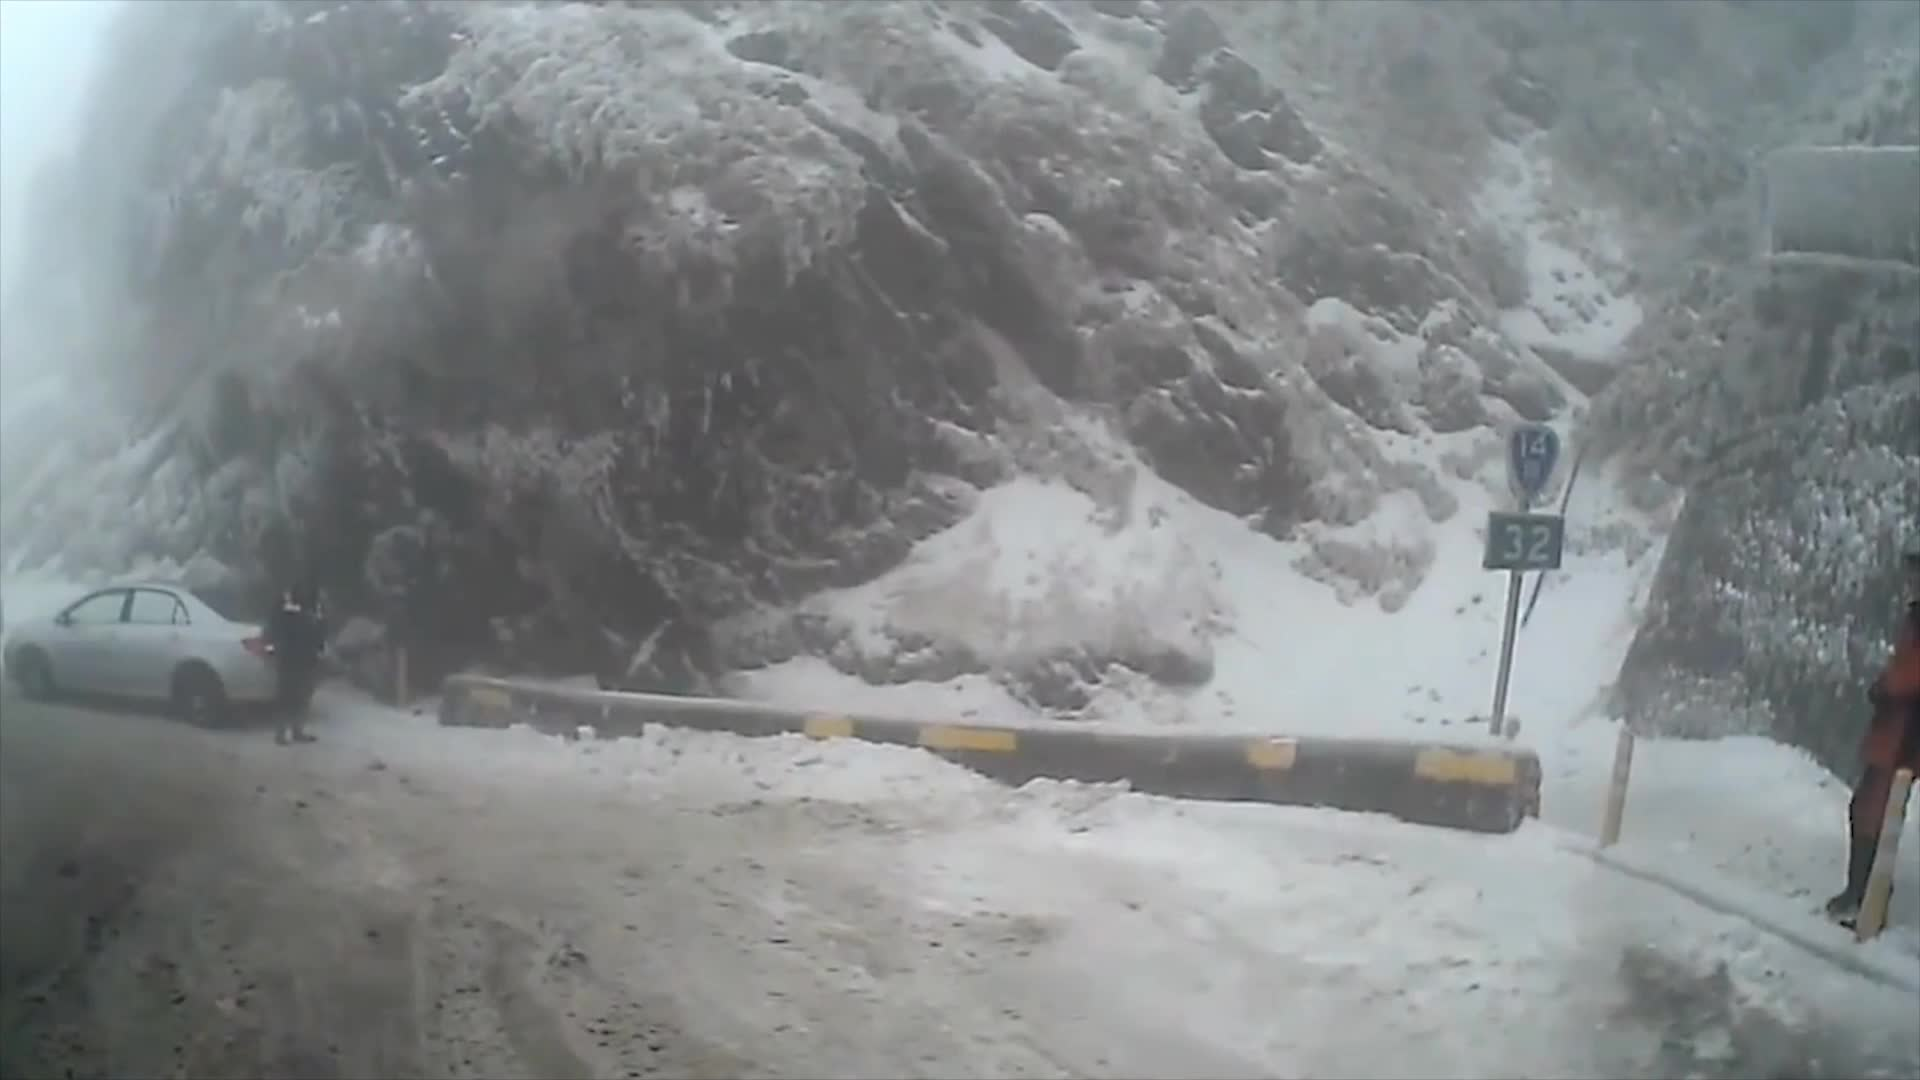pedestrian: (1822, 504, 1919, 944), (267, 569, 329, 742)
vehicle: (5, 575, 310, 724)
